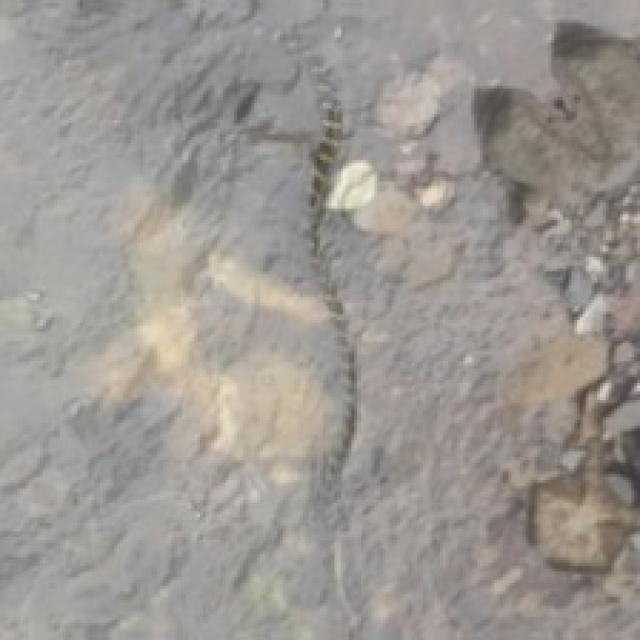mangrove cat snake: (292, 31, 356, 487)
